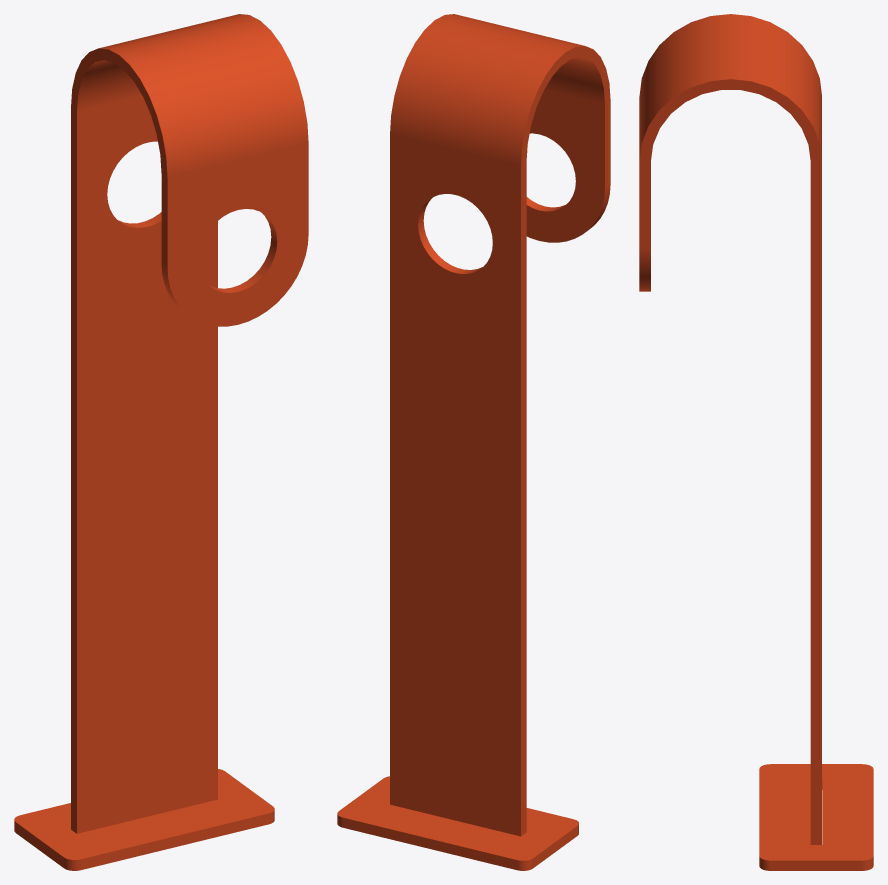
The picture shows the model from 3 angles, left to right: view 1: azimuth 30°, elevation 25°; view 2: azimuth 150°, elevation 25°; view 3: azimuth 270°, elevation 25°; orthographic projection. The views are drawn at different scales.
Parts seen in each view (by area): view 1: ID8 (×2); view 2: ID8 (×2); view 3: ID8 (×2).
Boxes of the visible parts, x1=… form: ID8 (×2): x1=14, y1=14, x2=308, y2=870; ID8 (×2): x1=337, y1=14, x2=610, y2=870; ID8 (×2): x1=639, y1=14, x2=873, y2=870.
Bounding box in the file's own units: 200 × 205 × 750.
